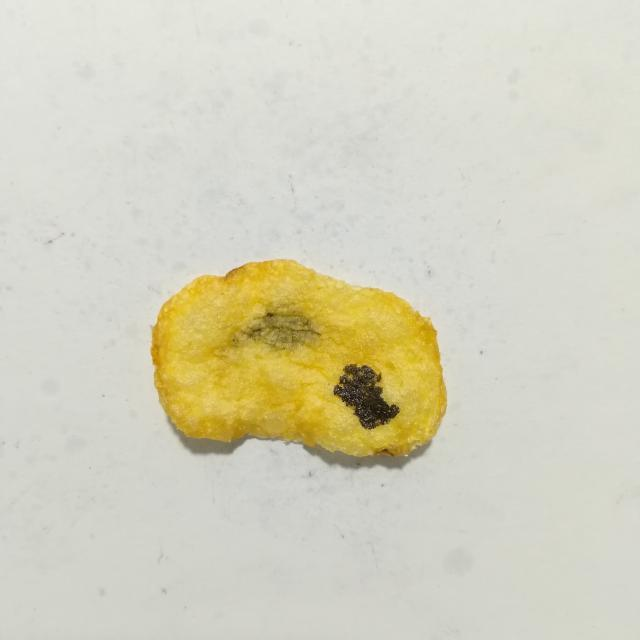chip: (151, 260, 446, 456)
damaged: (334, 364, 399, 429)
semi-damaged: (233, 312, 320, 351)
